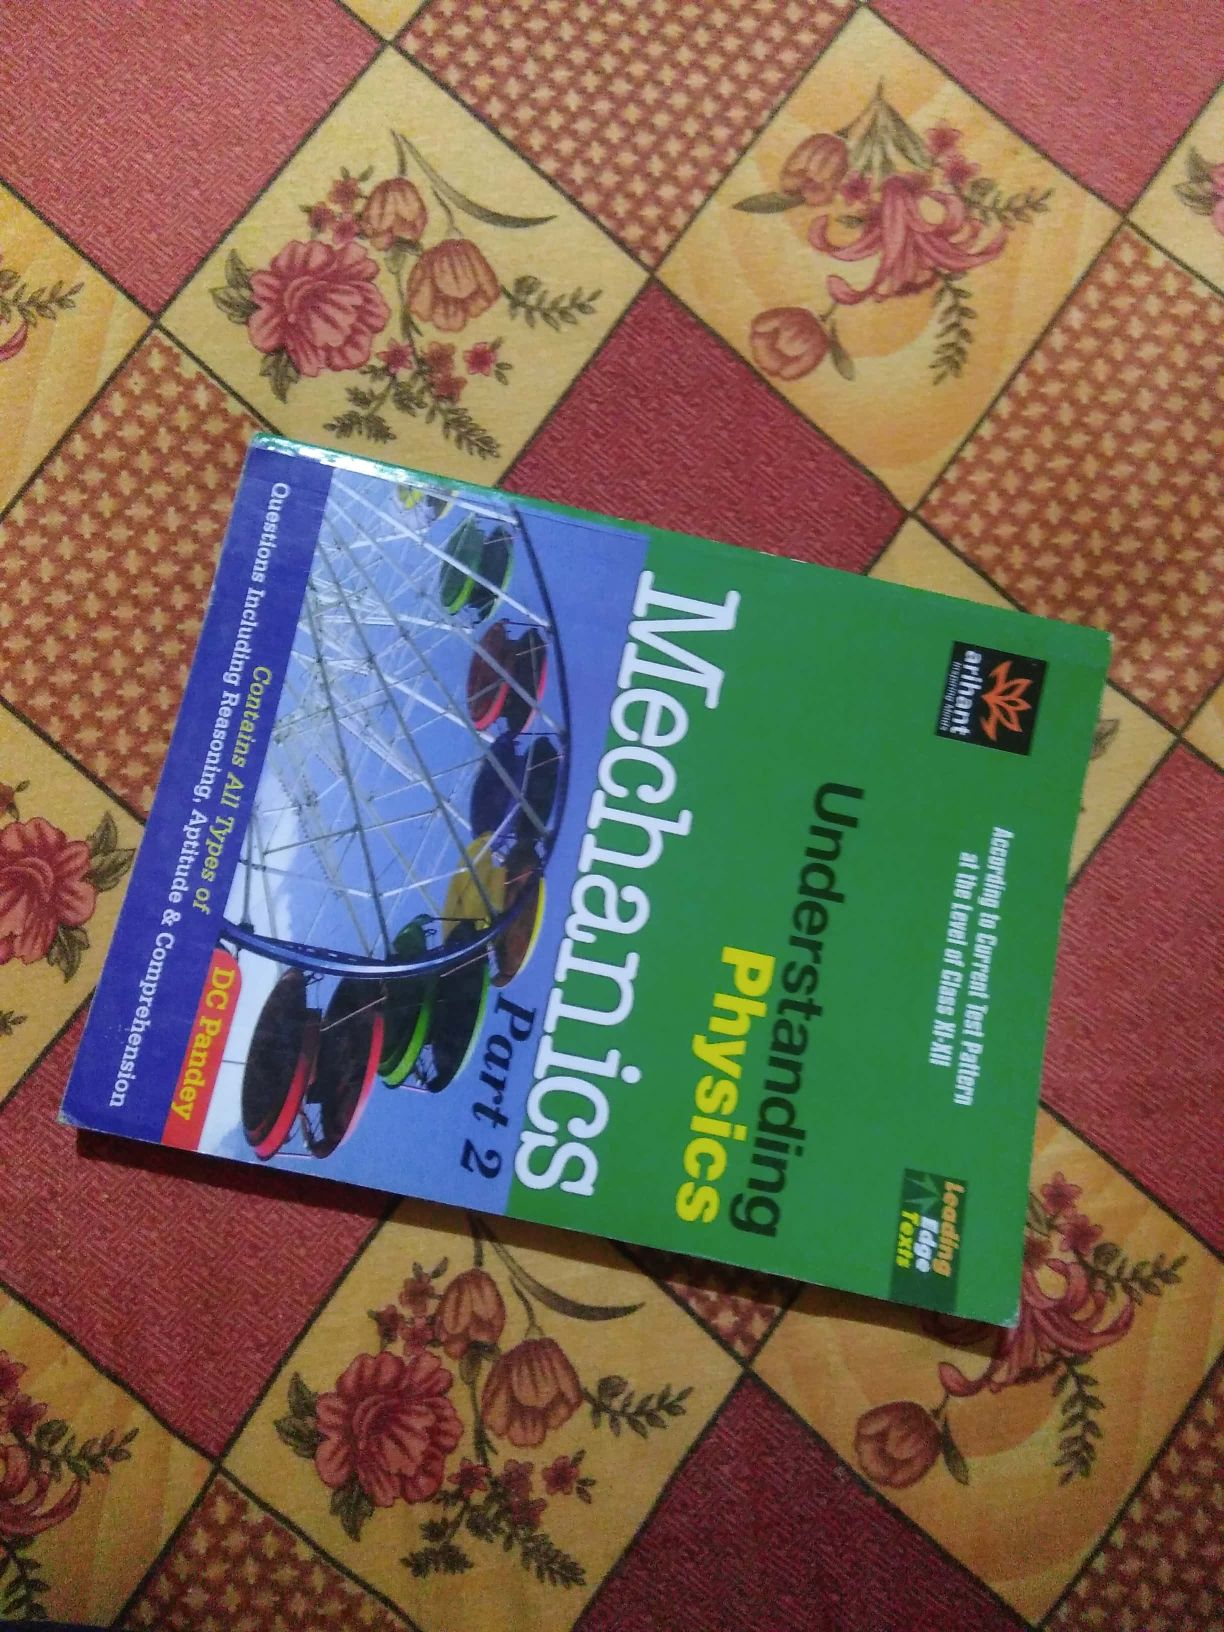mechanics: (80, 388, 1137, 1380)
